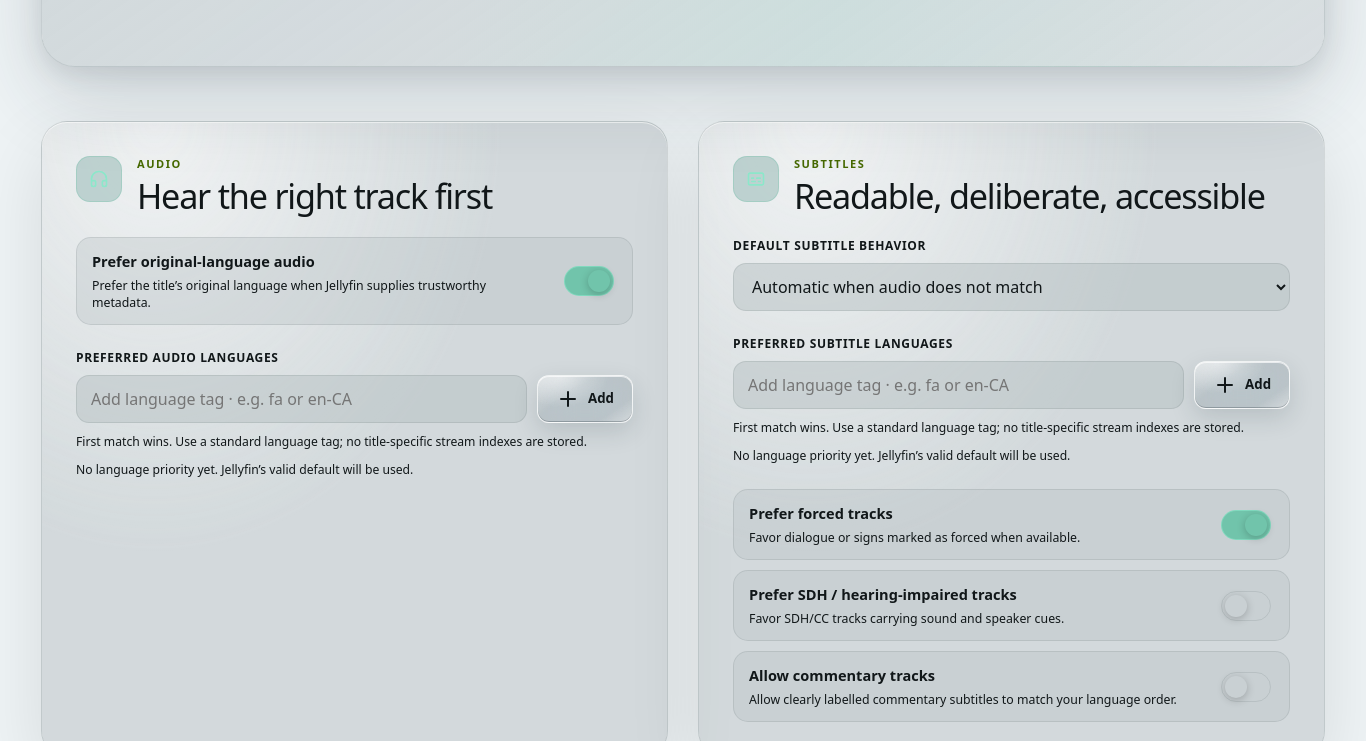
PlaybackPreferencesPanel › saves ordered semantic preferences without title-specific stream identifiers
(page scrolled)
Type "fa" into the field labelled "Preferred audio languages" at [302, 399], box [76,375,527,423]
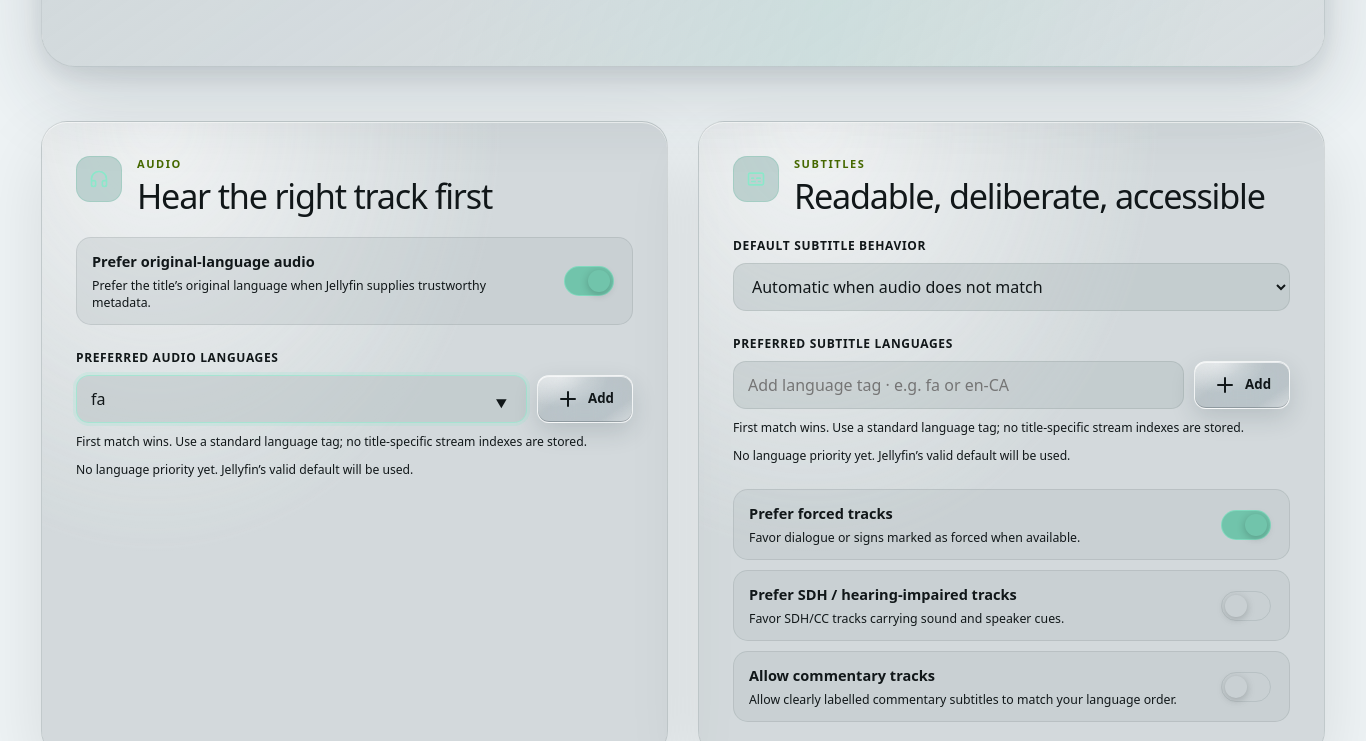
Click the button "Add" below "Preferred audio languages" at [585, 399], box [537,375,633,423]
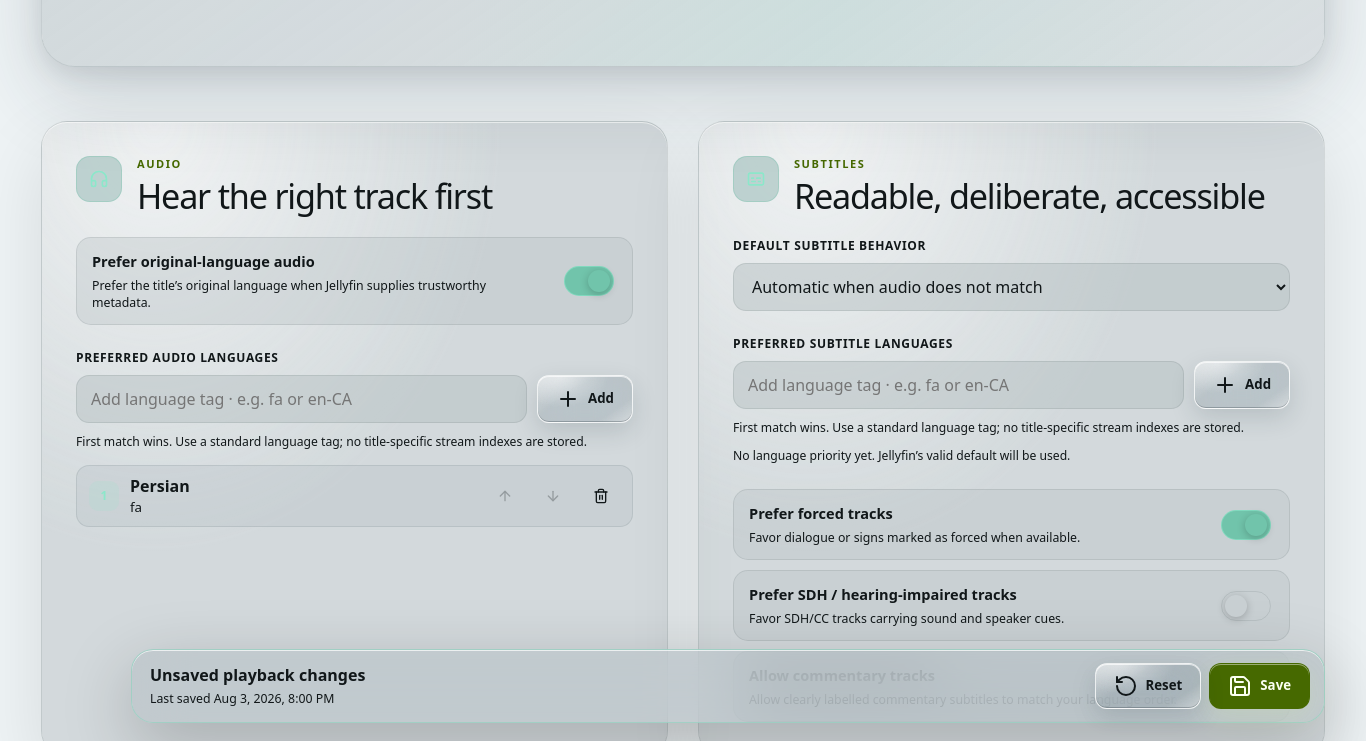
Select "Always show a preferred subtitle" in the dropdown labelled "Default subtitle behavior" at [1012, 287], box [733,263,1290,311]
(page scrolled)
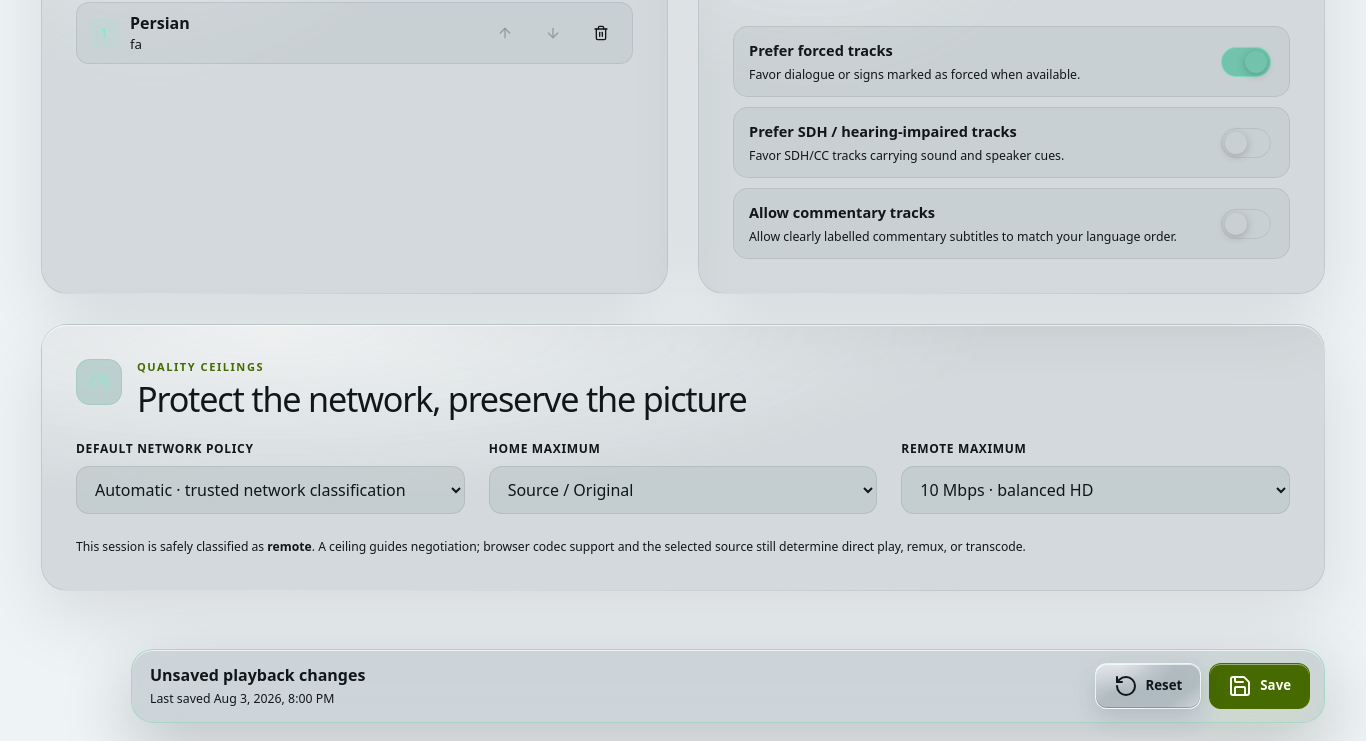
Select "4 Mbps · data saver" in the dropdown labelled "Remote maximum" at [1096, 490], box [901,466,1290,514]
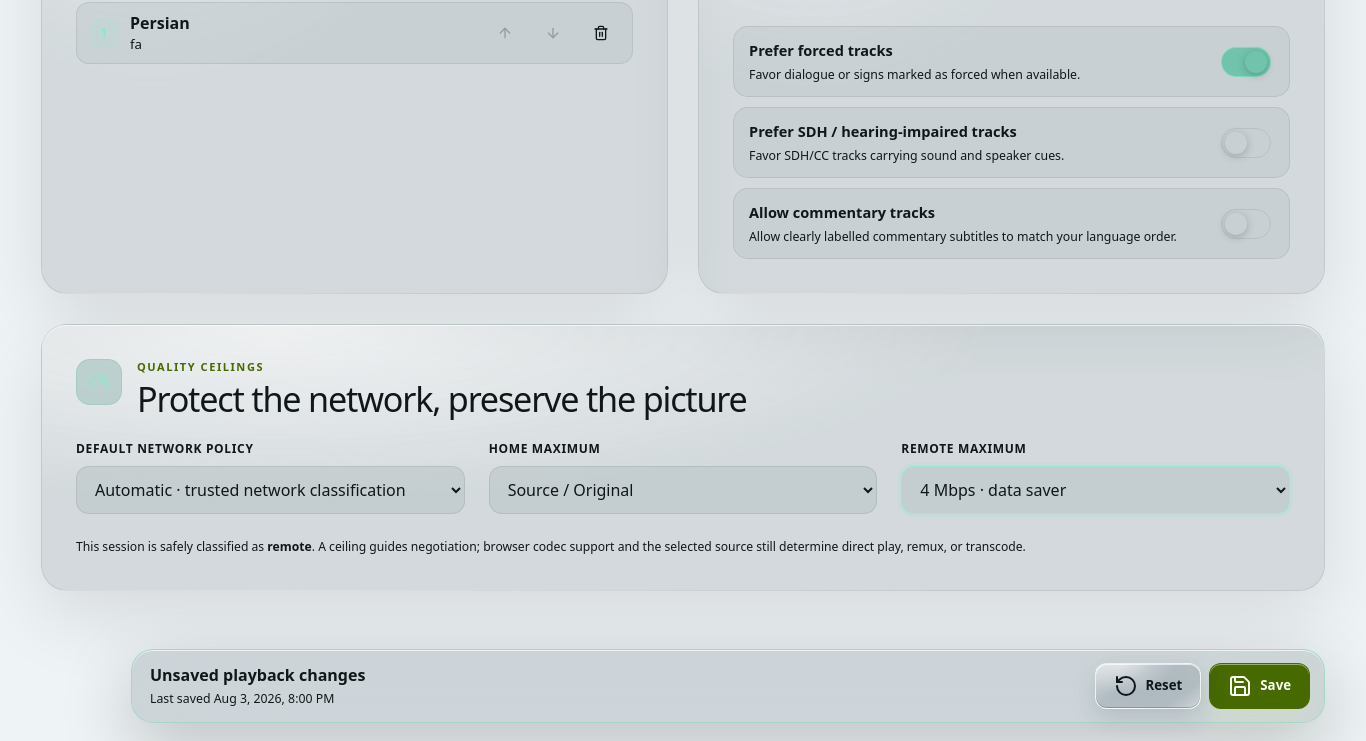
Click the button with aria-label "Save playback profile" at [1260, 686], box [1209,663,1310,709]
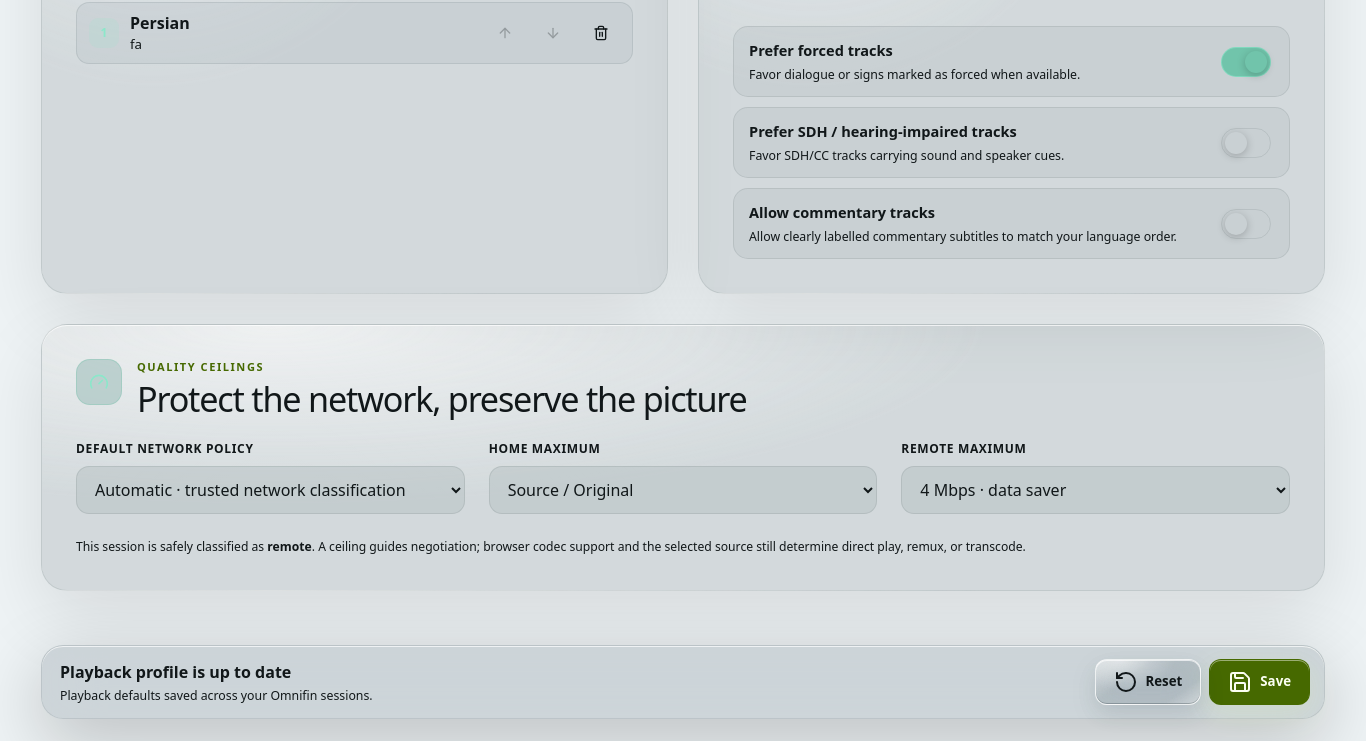
Expected: the text "Playback profile is up to date" is shown, [60,661,291,683]
